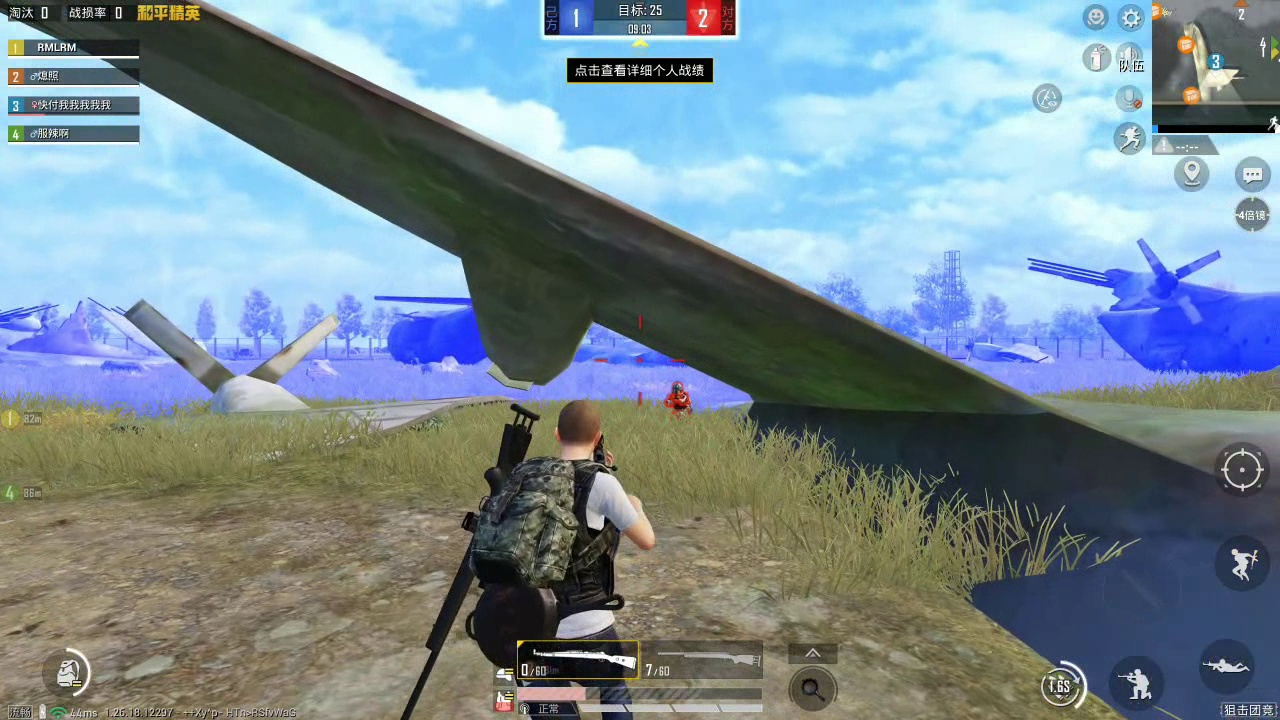enemy: (666, 378, 692, 422)
